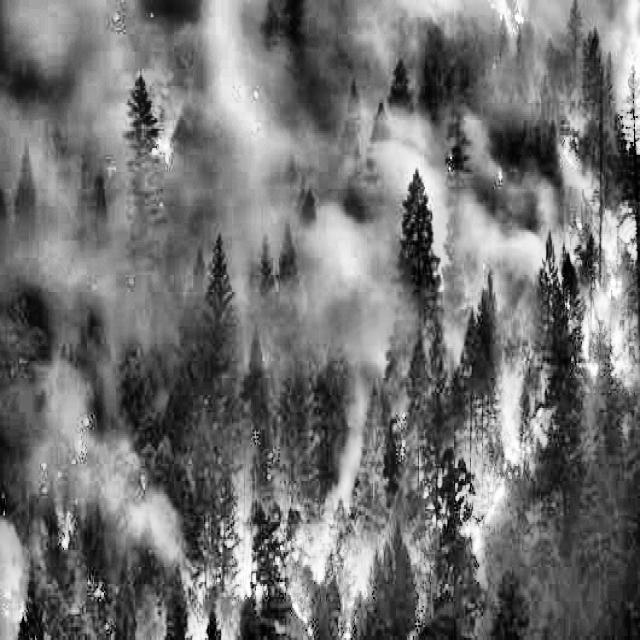fire: (11, 35, 632, 580)
